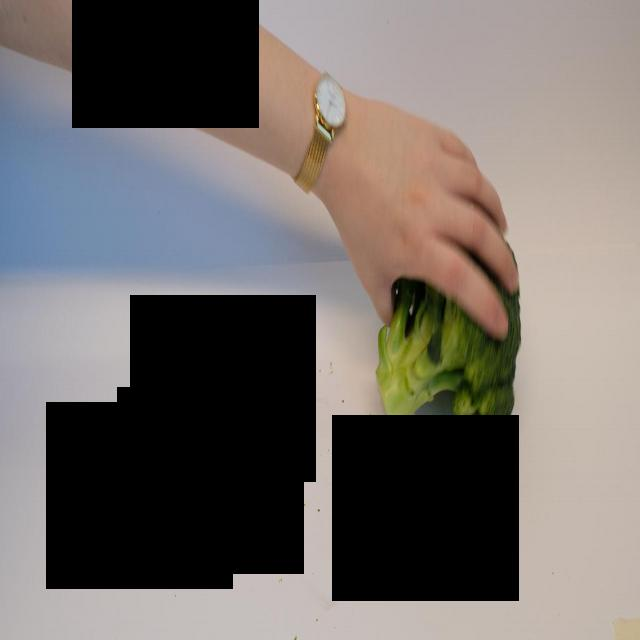broccoli: (380, 250, 522, 468)
